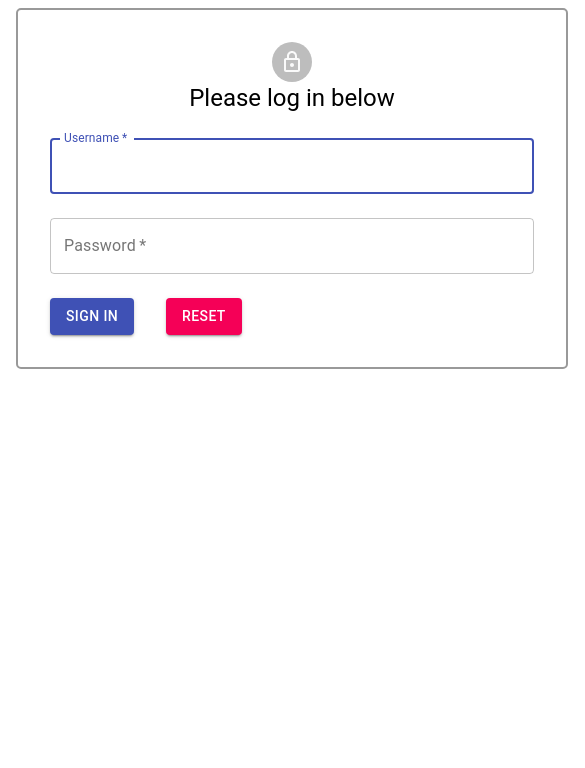
Test: Expect error message when try to sign with wrong credentials
Type "wrongUser" into the field with id "username" at {"x": 292, "y": 166}, box left=50, top=138, right=534, bottom=194
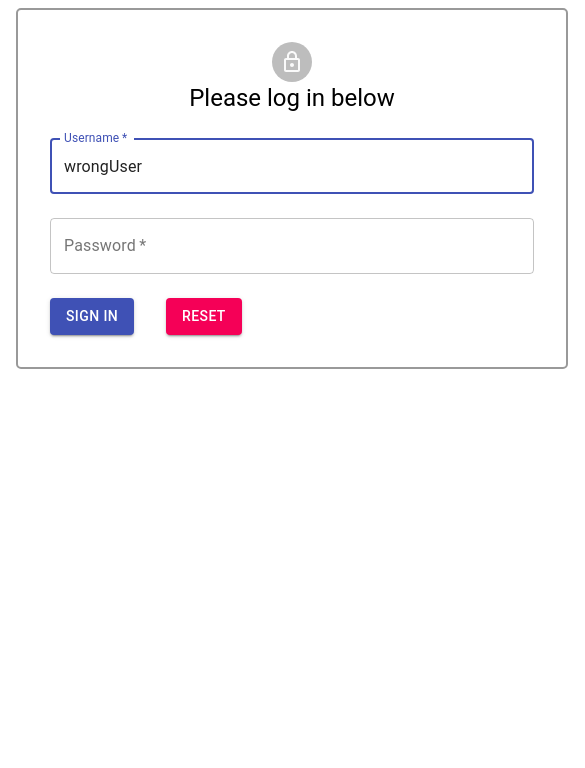
Type "wrorgPassword" into the password field labelled "Password *" at {"x": 292, "y": 246}, box left=50, top=218, right=534, bottom=274
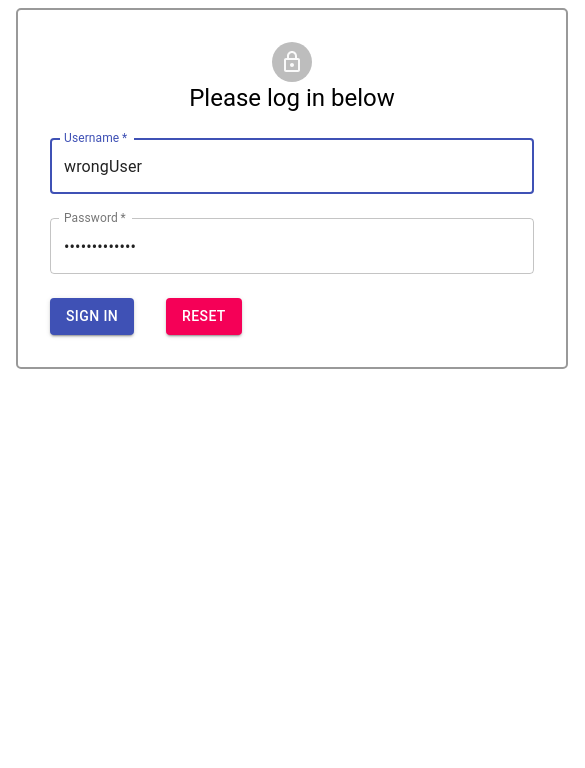
Click the button with id "signup-btn" at {"x": 92, "y": 316}, box left=50, top=298, right=134, bottom=334
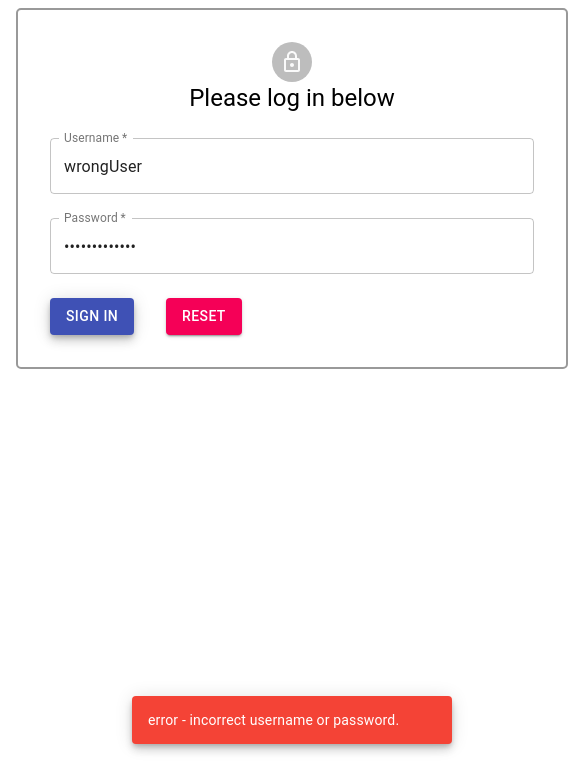
Now the element with id "login-form-snackbar" is shown, box left=132, top=696, right=452, bottom=744
